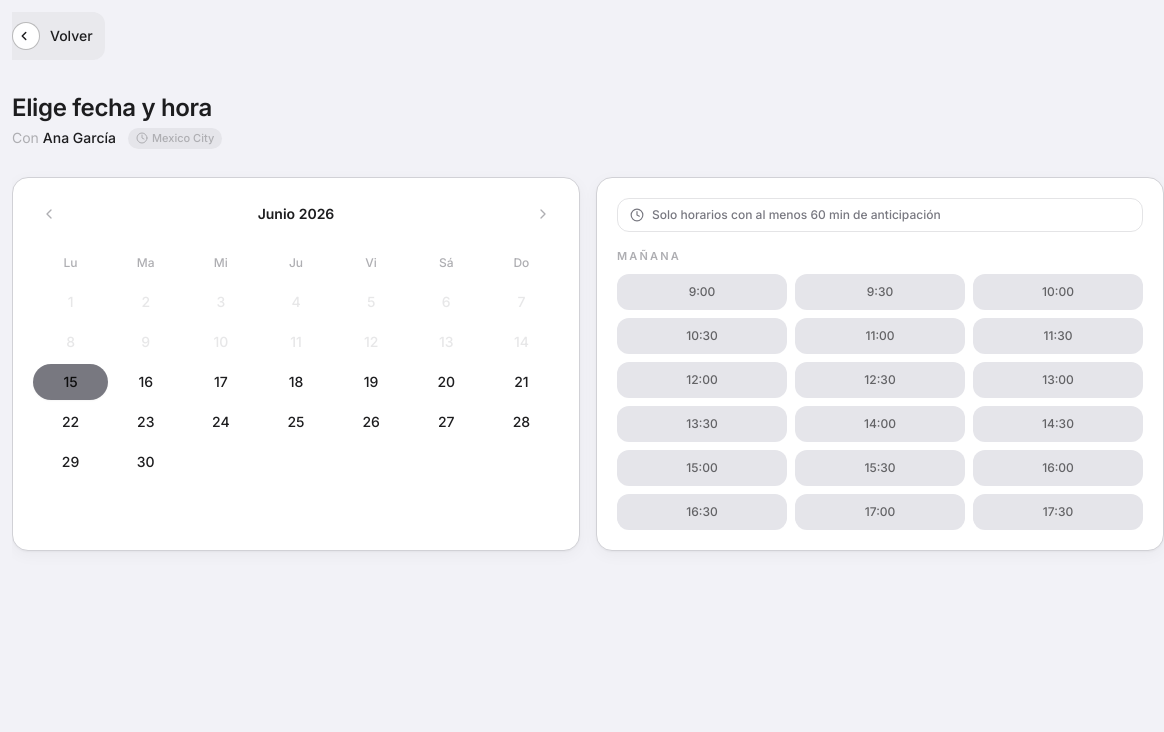
Scenario: DateTimePicker — navigation › next-month button advances the calendar header to Julio 2026
Click the button named "Mes siguiente" at (543, 214), box [527,198,559,230]
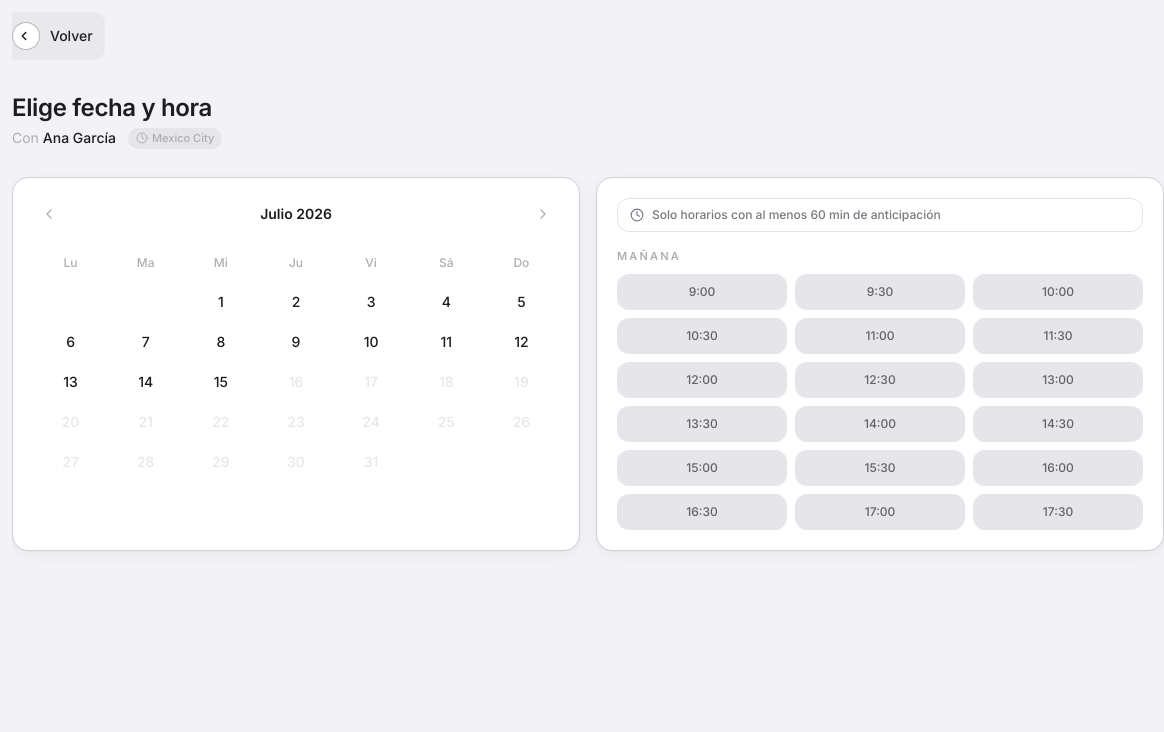
Now the text "Julio 2026" is shown, box [260,204,332,224]
